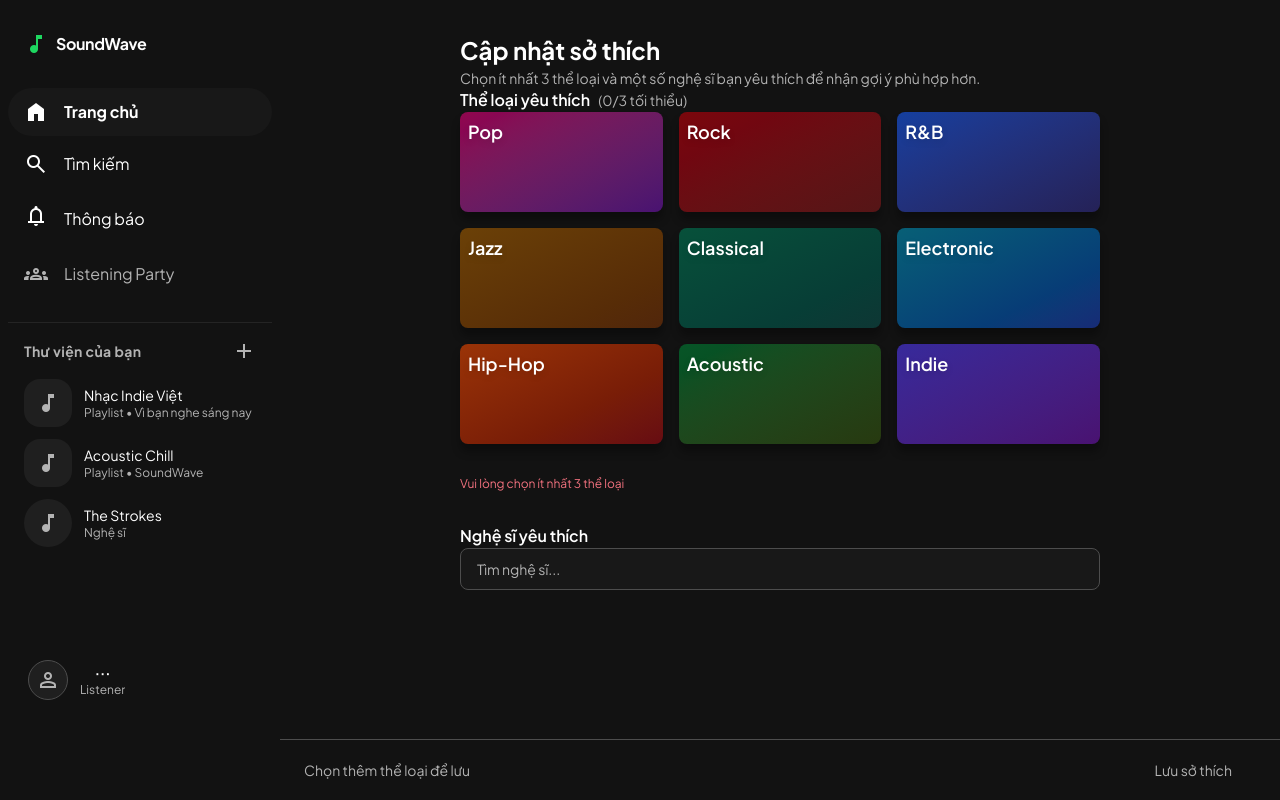
Test: PreferencesPage › clicking artist result adds chip with artist name
Type "Chillies" into the field with test id "artist-search-input" at [780, 569], box [460,548,1100,590]
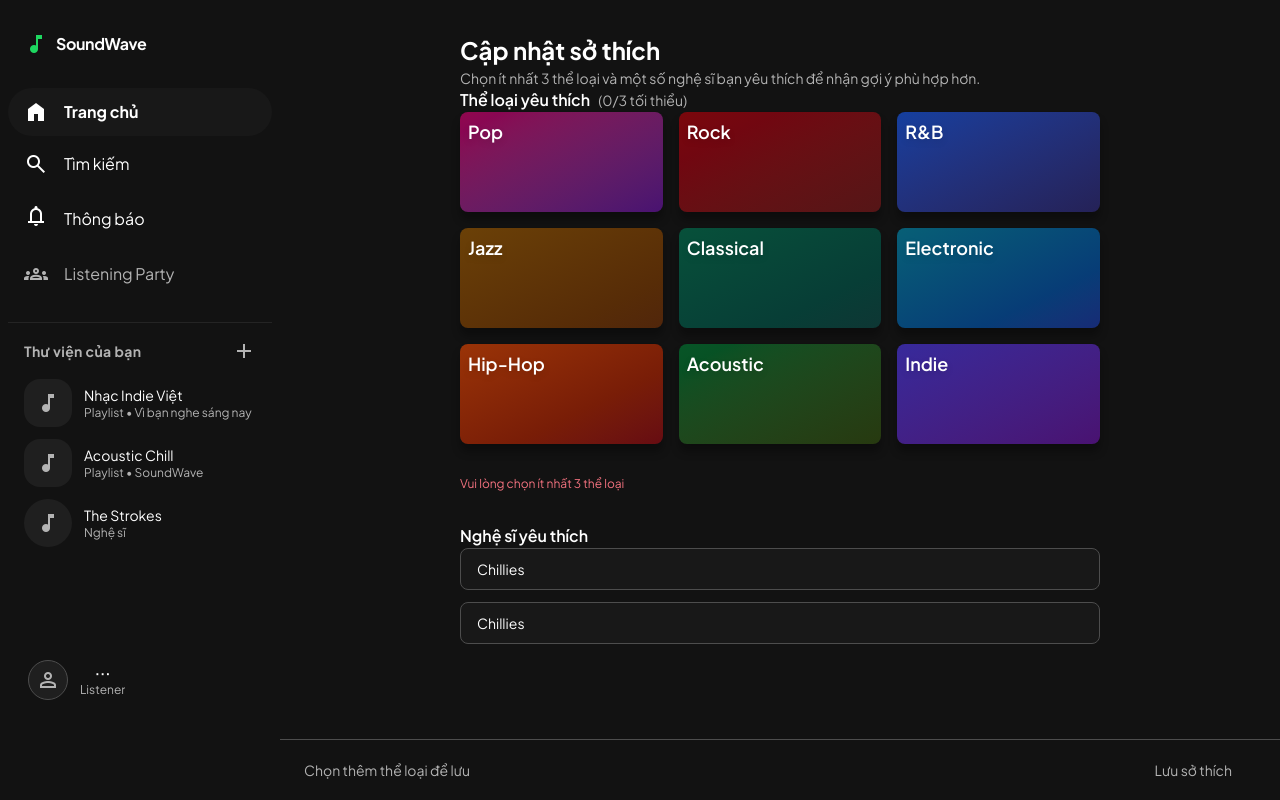
Click the button with test id "artist-result-Chillies" at [501, 623], box [461,603,1099,643]
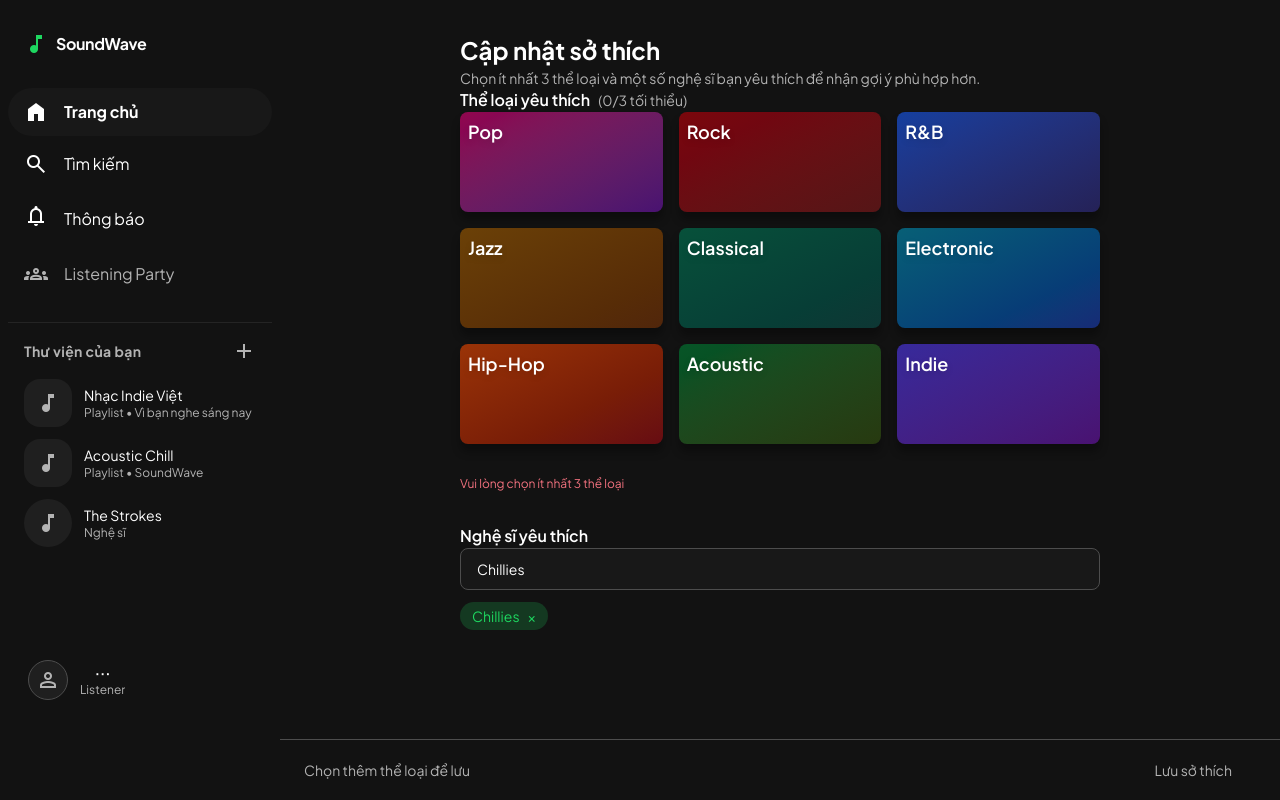
expect the element with test id "selected-artist-Chillies" is shown: met, box [460,602,548,630]
